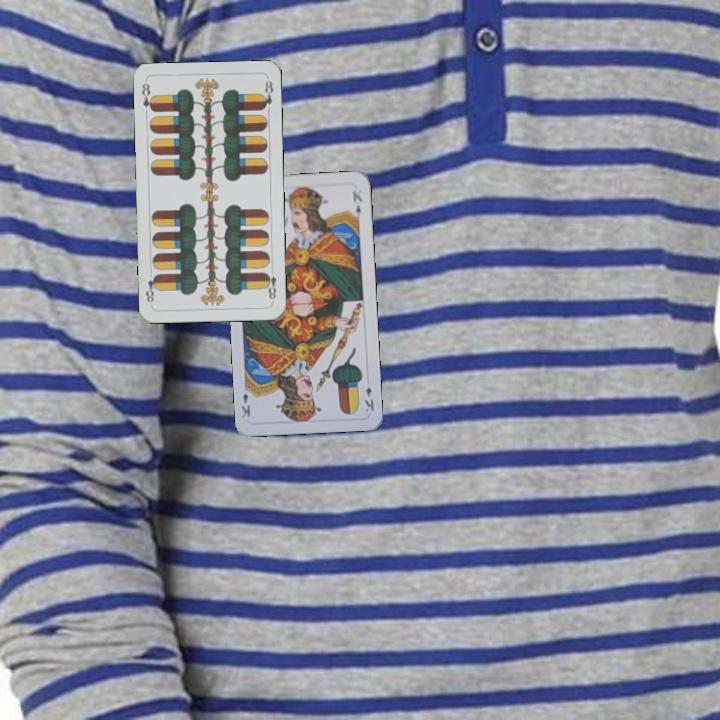E8: (262, 264, 279, 304), (138, 79, 156, 114)
EK: (361, 374, 377, 414)
